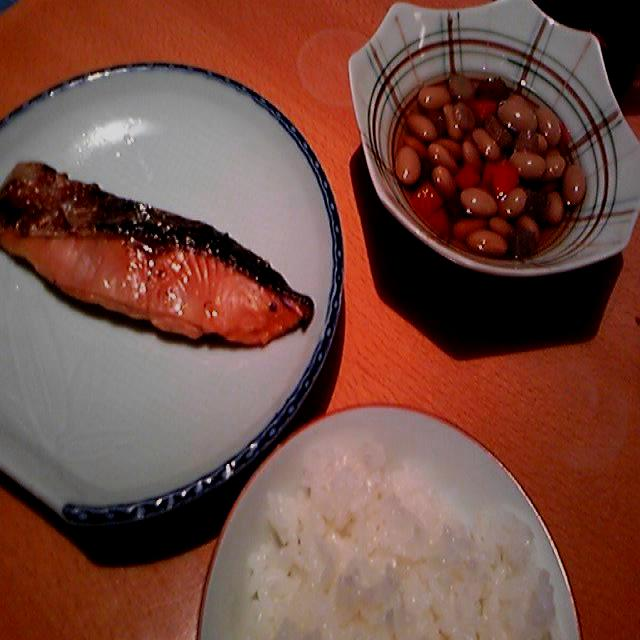Rice: (239, 437, 561, 636)
